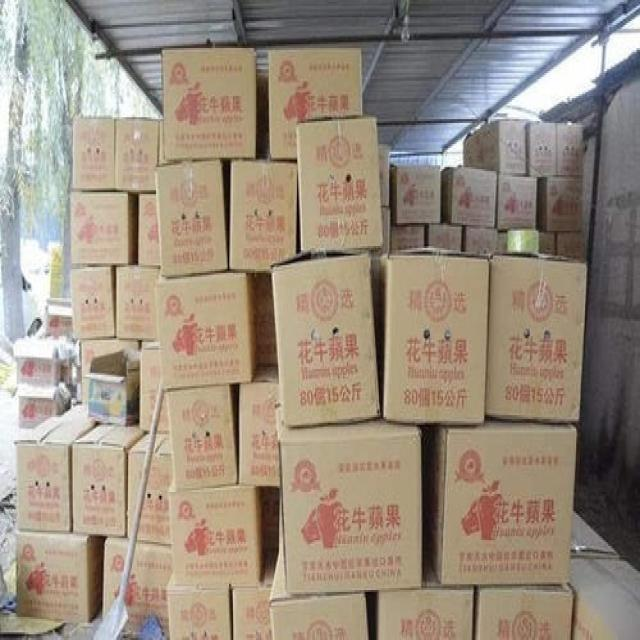box: (276, 404, 422, 596), (419, 417, 577, 584), (376, 246, 489, 425), (273, 250, 381, 427), (486, 254, 588, 425), (155, 269, 257, 392), (297, 115, 383, 252), (166, 479, 266, 586), (163, 48, 256, 160), (269, 48, 362, 160), (14, 415, 97, 534), (269, 550, 369, 640), (375, 550, 474, 640), (72, 421, 148, 536), (155, 160, 228, 279), (17, 530, 108, 623), (229, 152, 297, 273), (165, 386, 238, 490), (474, 586, 573, 640), (238, 365, 280, 486), (70, 192, 138, 263), (123, 544, 172, 634), (137, 432, 174, 548), (168, 573, 232, 640), (81, 338, 140, 409), (232, 552, 279, 640), (88, 348, 140, 427), (463, 119, 527, 175), (115, 261, 160, 340), (442, 167, 497, 229), (115, 117, 159, 192), (156, 117, 219, 169), (72, 267, 115, 340), (390, 165, 440, 225), (73, 119, 115, 190), (536, 175, 582, 233), (12, 338, 63, 386), (102, 538, 128, 623), (498, 173, 536, 231), (127, 431, 147, 538), (140, 340, 163, 431), (255, 273, 276, 365), (19, 386, 60, 429), (138, 194, 160, 267), (529, 123, 557, 179), (557, 125, 584, 177), (429, 215, 463, 252), (262, 488, 280, 550), (463, 227, 498, 258), (390, 223, 425, 252), (557, 231, 586, 261), (49, 306, 72, 338), (380, 144, 390, 208), (63, 404, 90, 423), (157, 394, 170, 432), (540, 233, 557, 256), (381, 208, 389, 256)
